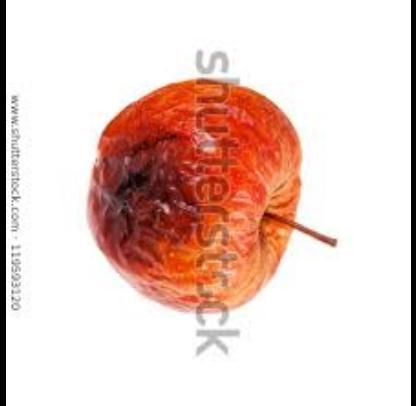defect: (80, 113, 226, 334)
